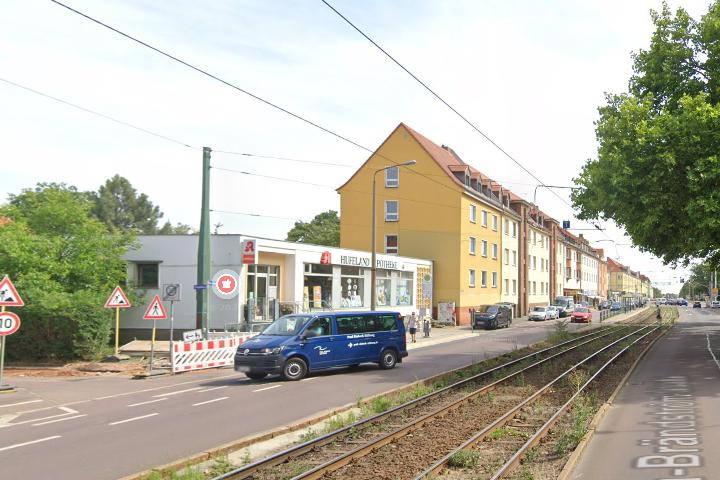google_maps: (216, 272, 238, 297)
traffic_sign: (1, 274, 25, 308), (103, 285, 132, 308), (142, 295, 168, 320)
vehicle: (231, 307, 410, 381), (471, 302, 513, 331), (570, 306, 593, 325), (527, 305, 551, 321)
